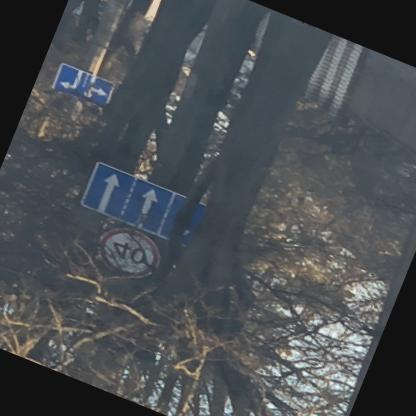speedlimit: (88, 222, 160, 286)
